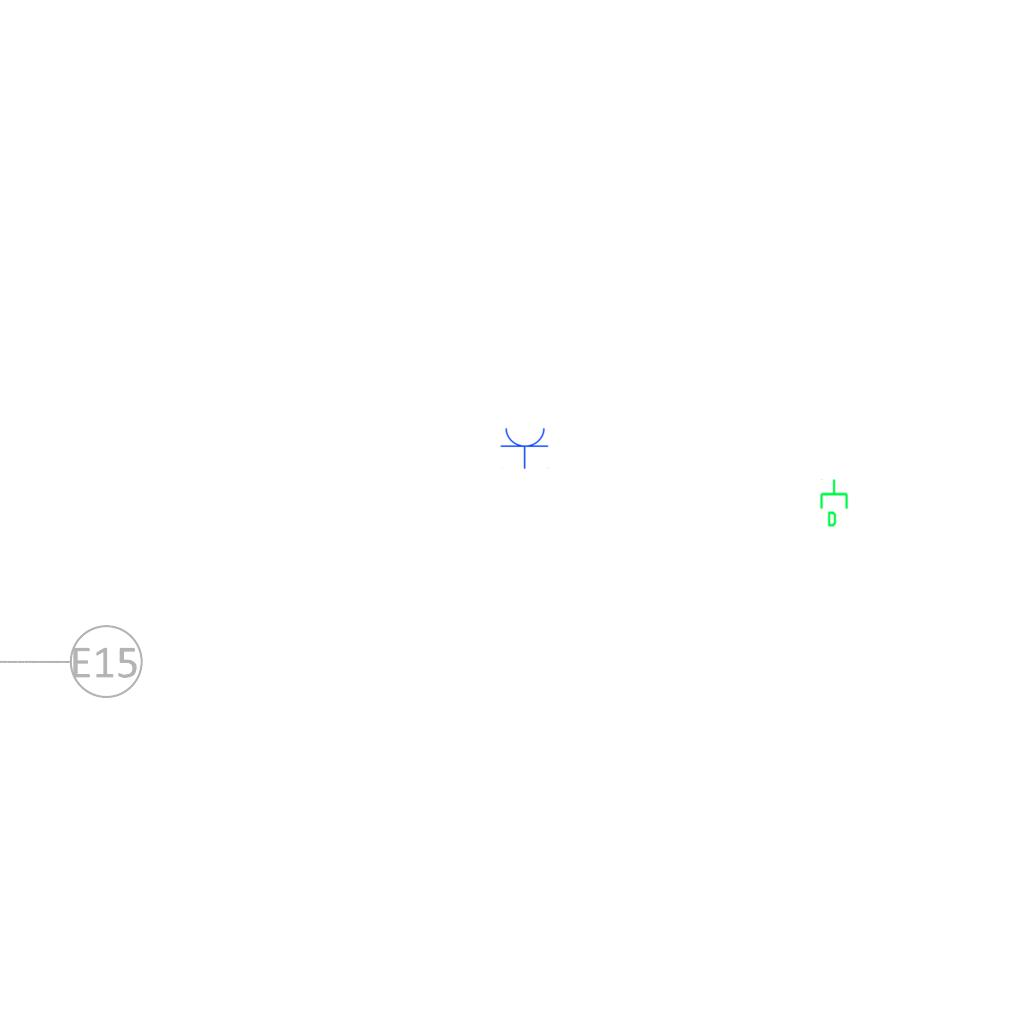Datenanschluss_einfach: (818, 478, 852, 528)
Schukosteckdose_einfach: (500, 426, 550, 469)
